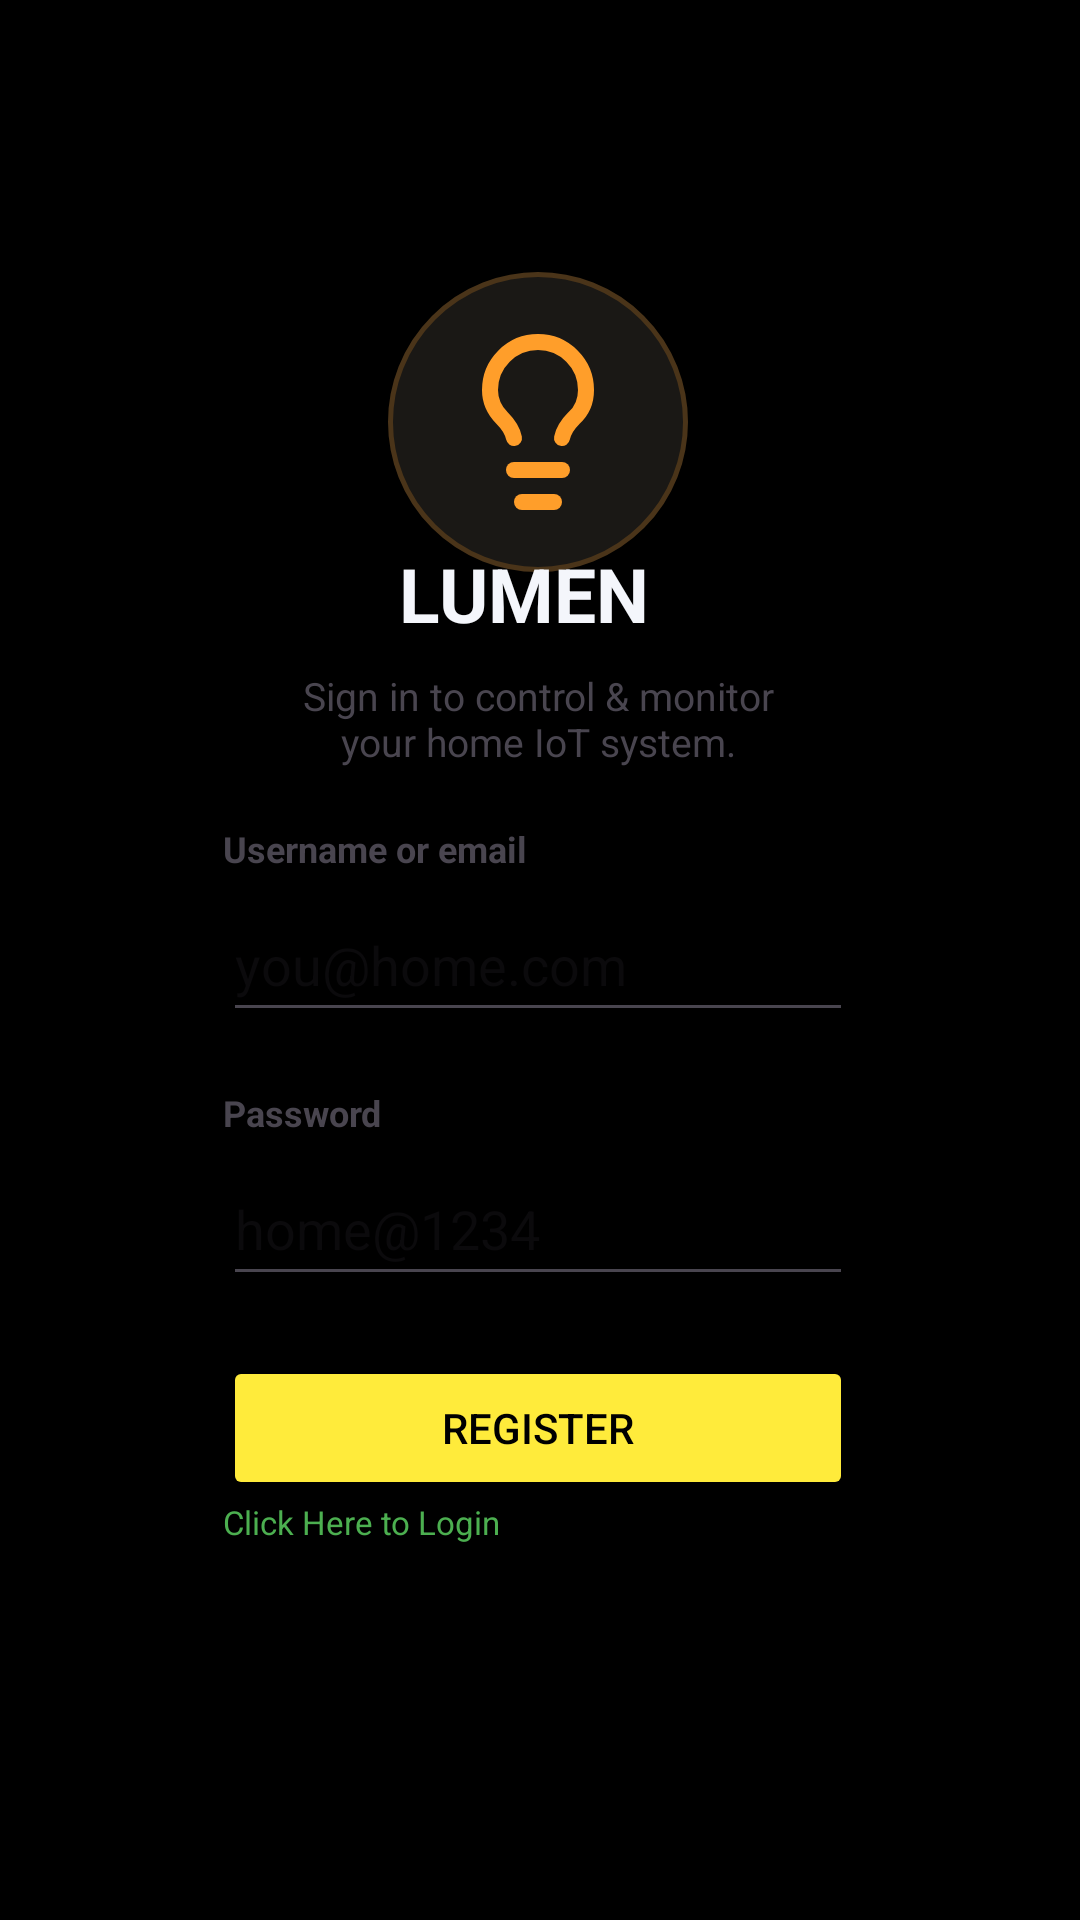

Named icons in this screenshot (1080w x 1920h) and their centers, [x,y]:
lightbulb: [538,422]
